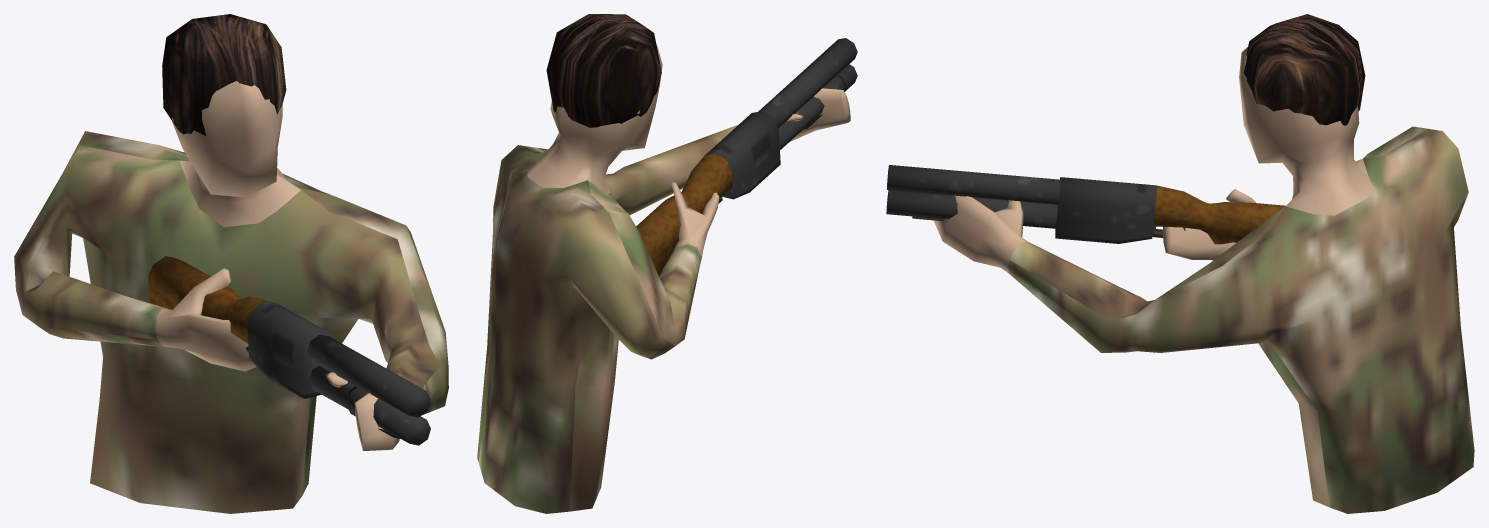
The model's file is PlayerGL.obj.
The picture shows the model from 3 angles, left to right: view 1: azimuth 30°, elevation 25°; view 2: azimuth 150°, elevation 25°; view 3: azimuth 270°, elevation 25°; orthographic projection. The views are drawn at different scales.
Visible parts, largest first — view 1: GL; view 2: GL; view 3: GL.
Boxes of the visible parts, bbox=[...] form: GL: bbox=[14, 14, 448, 513]; GL: bbox=[477, 14, 857, 513]; GL: bbox=[886, 14, 1474, 513].
Size of the model in its own units: 0.1463 by 0.2403 by 0.286.
3 materials, 3 textured.
